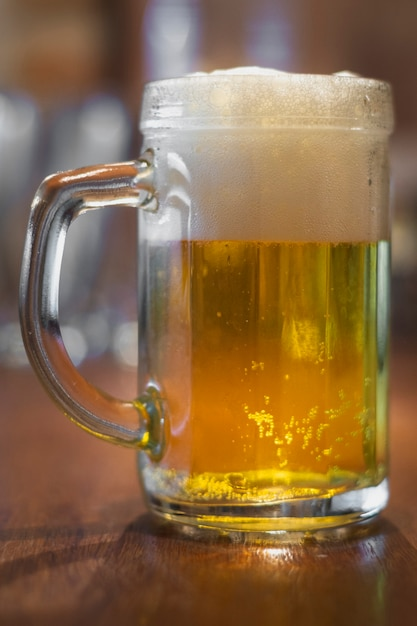alcohol: (17, 73, 398, 539)
